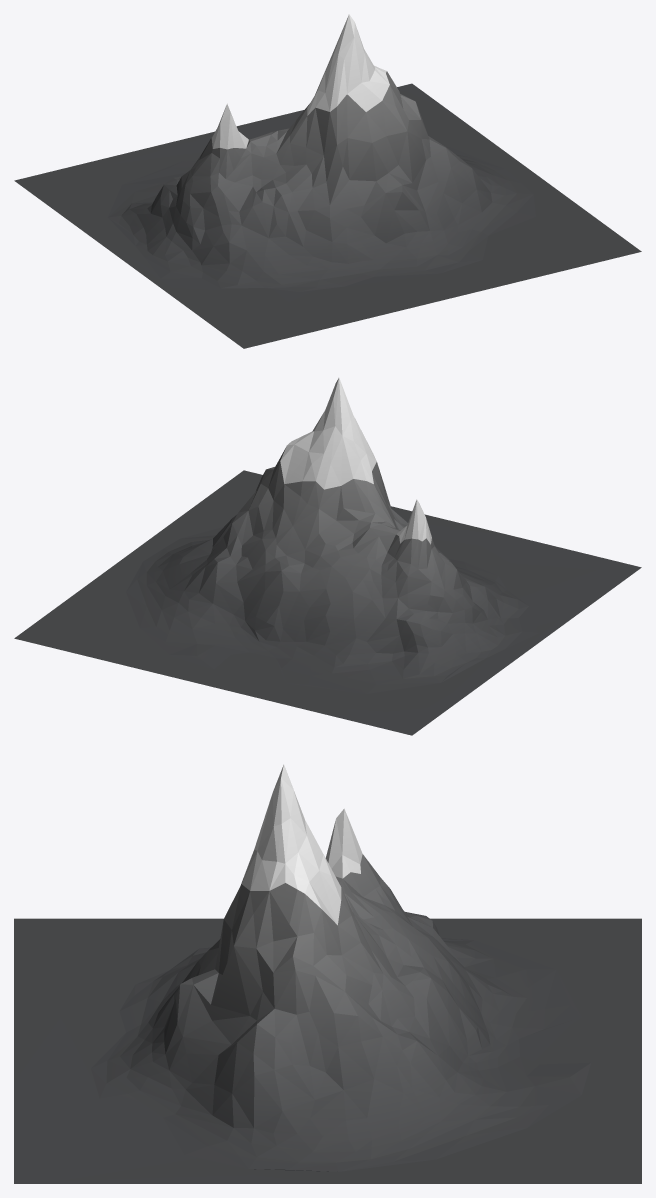
File: Mountains_05.fbx
3 views of the same model, one above another, from view 1: azimuth 30°, elevation 25°; view 2: azimuth 150°, elevation 25°; view 3: azimuth 270°, elevation 25° (orthographic). The views are drawn at different scales.
Visible parts, largest first — view 1: Mountains_05; view 2: Mountains_05; view 3: Mountains_05.
Part boxes in pixels (box(x1,y1,x2,y2)): Mountains_05: box(14, 14, 641, 348); Mountains_05: box(14, 377, 641, 735); Mountains_05: box(14, 764, 641, 1183).
Size of the model in its own units: 25600 by 13070 by 25600.
